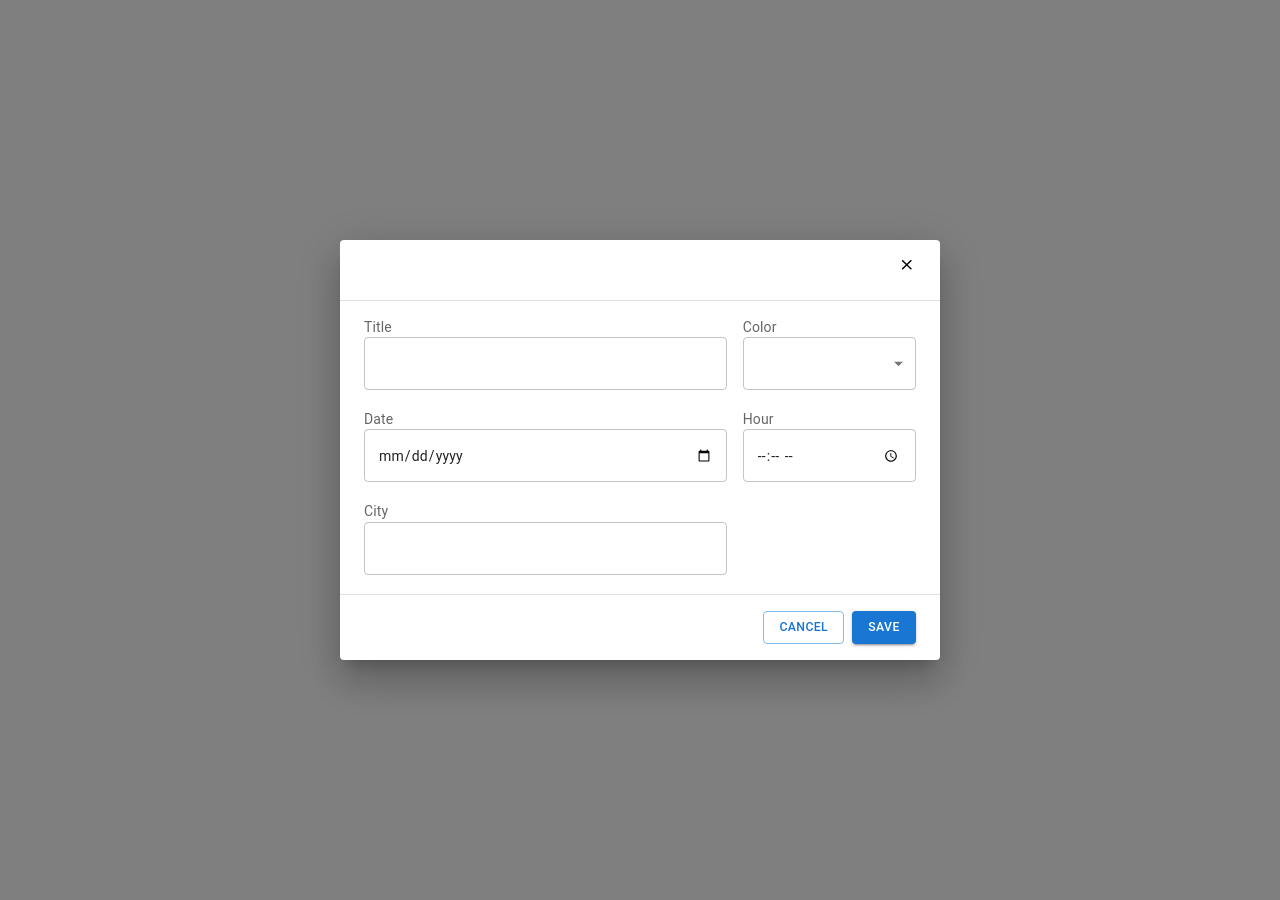
it: ModalReminder › should display error message when form-title has more than 30 characters and submit button is clicked
This screenshot has width=1280, height=900.
Type "This is a form title with more than 30 characters" into the field below "Title".
click(545, 364); type("This is a form title with more than 30 characters")  # box [364, 337, 727, 390]
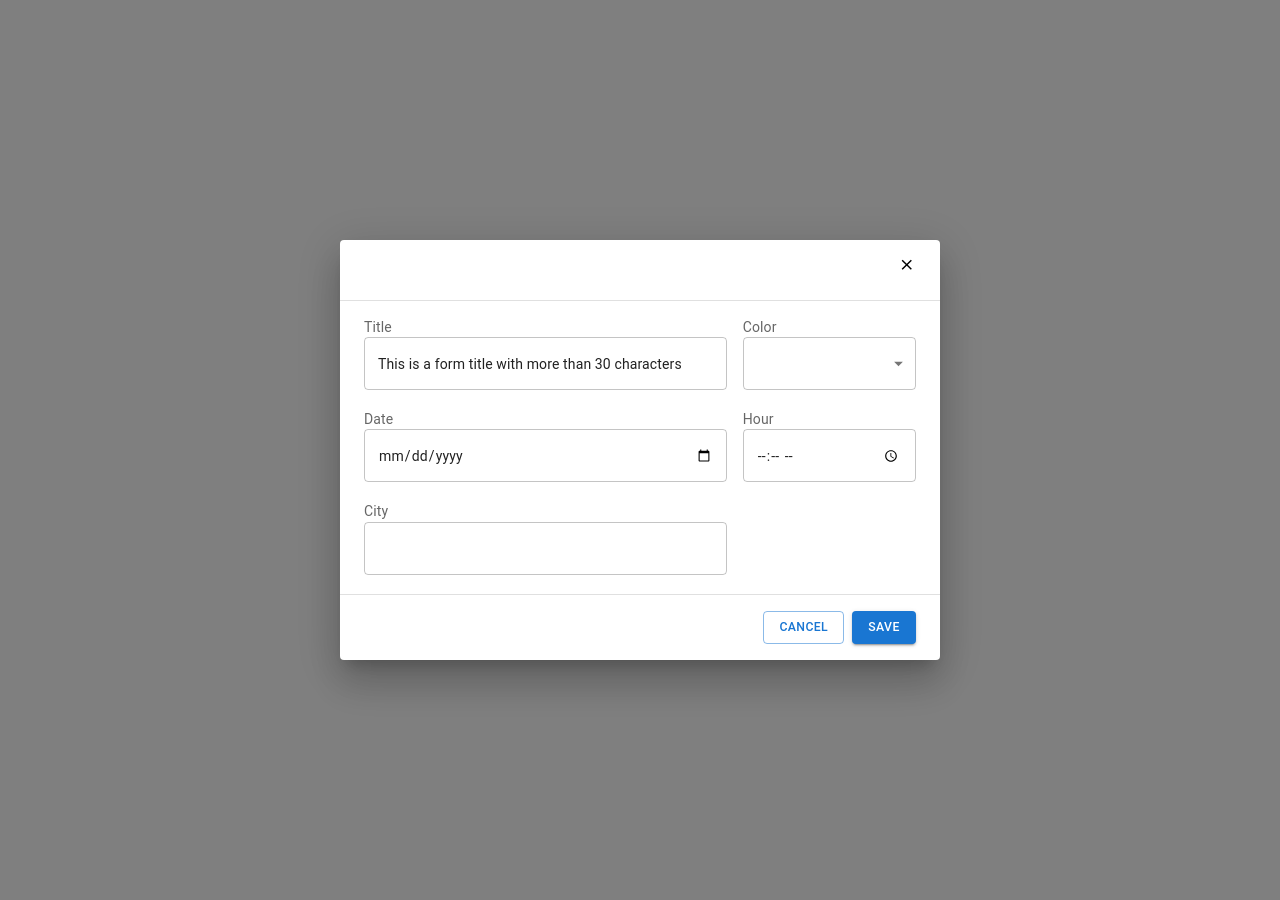
Click the button with test id "form-btn-submit".
click(884, 627)  # box [852, 611, 916, 644]
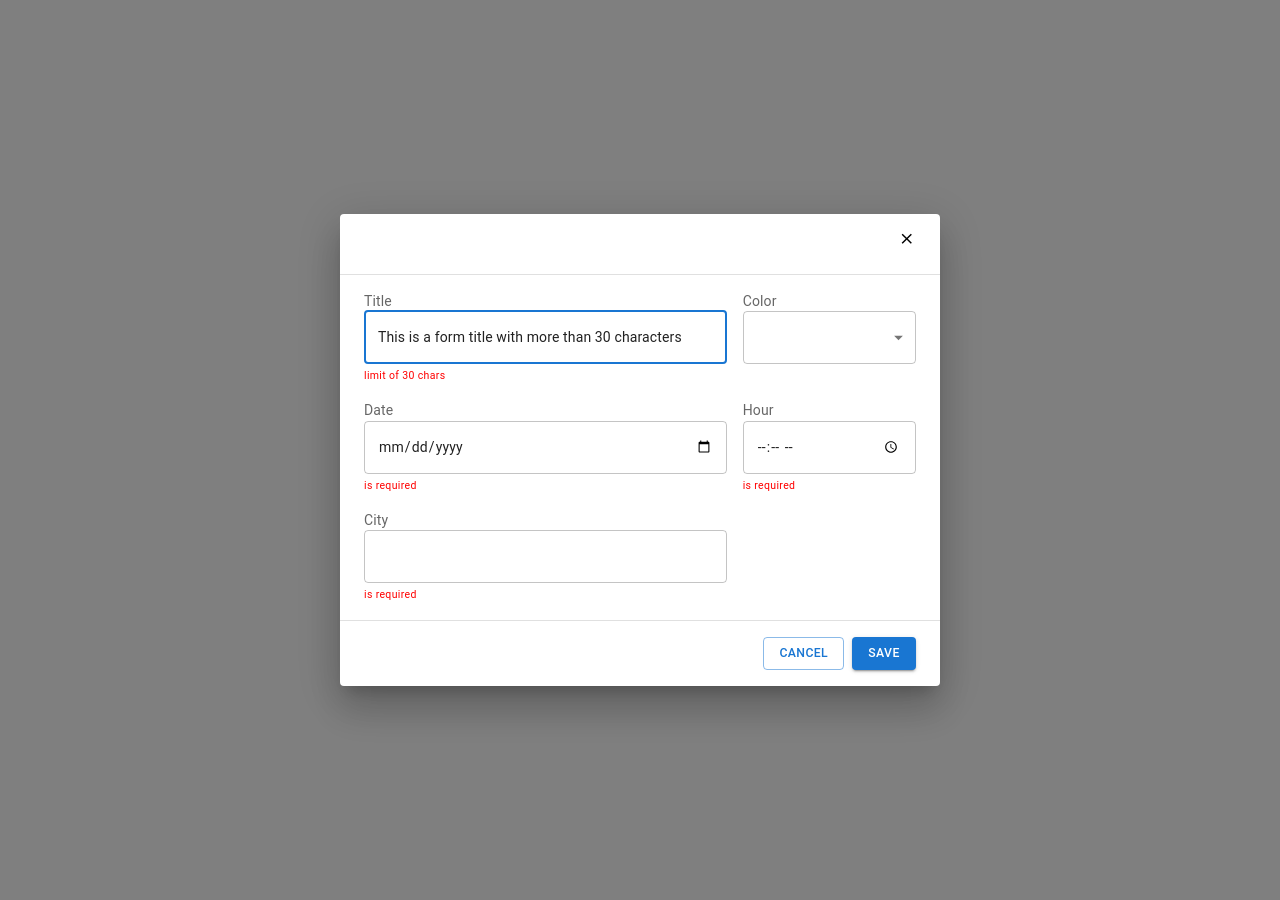
Check: the text "limit of 30 chars" is shown, box [364, 369, 446, 382]
